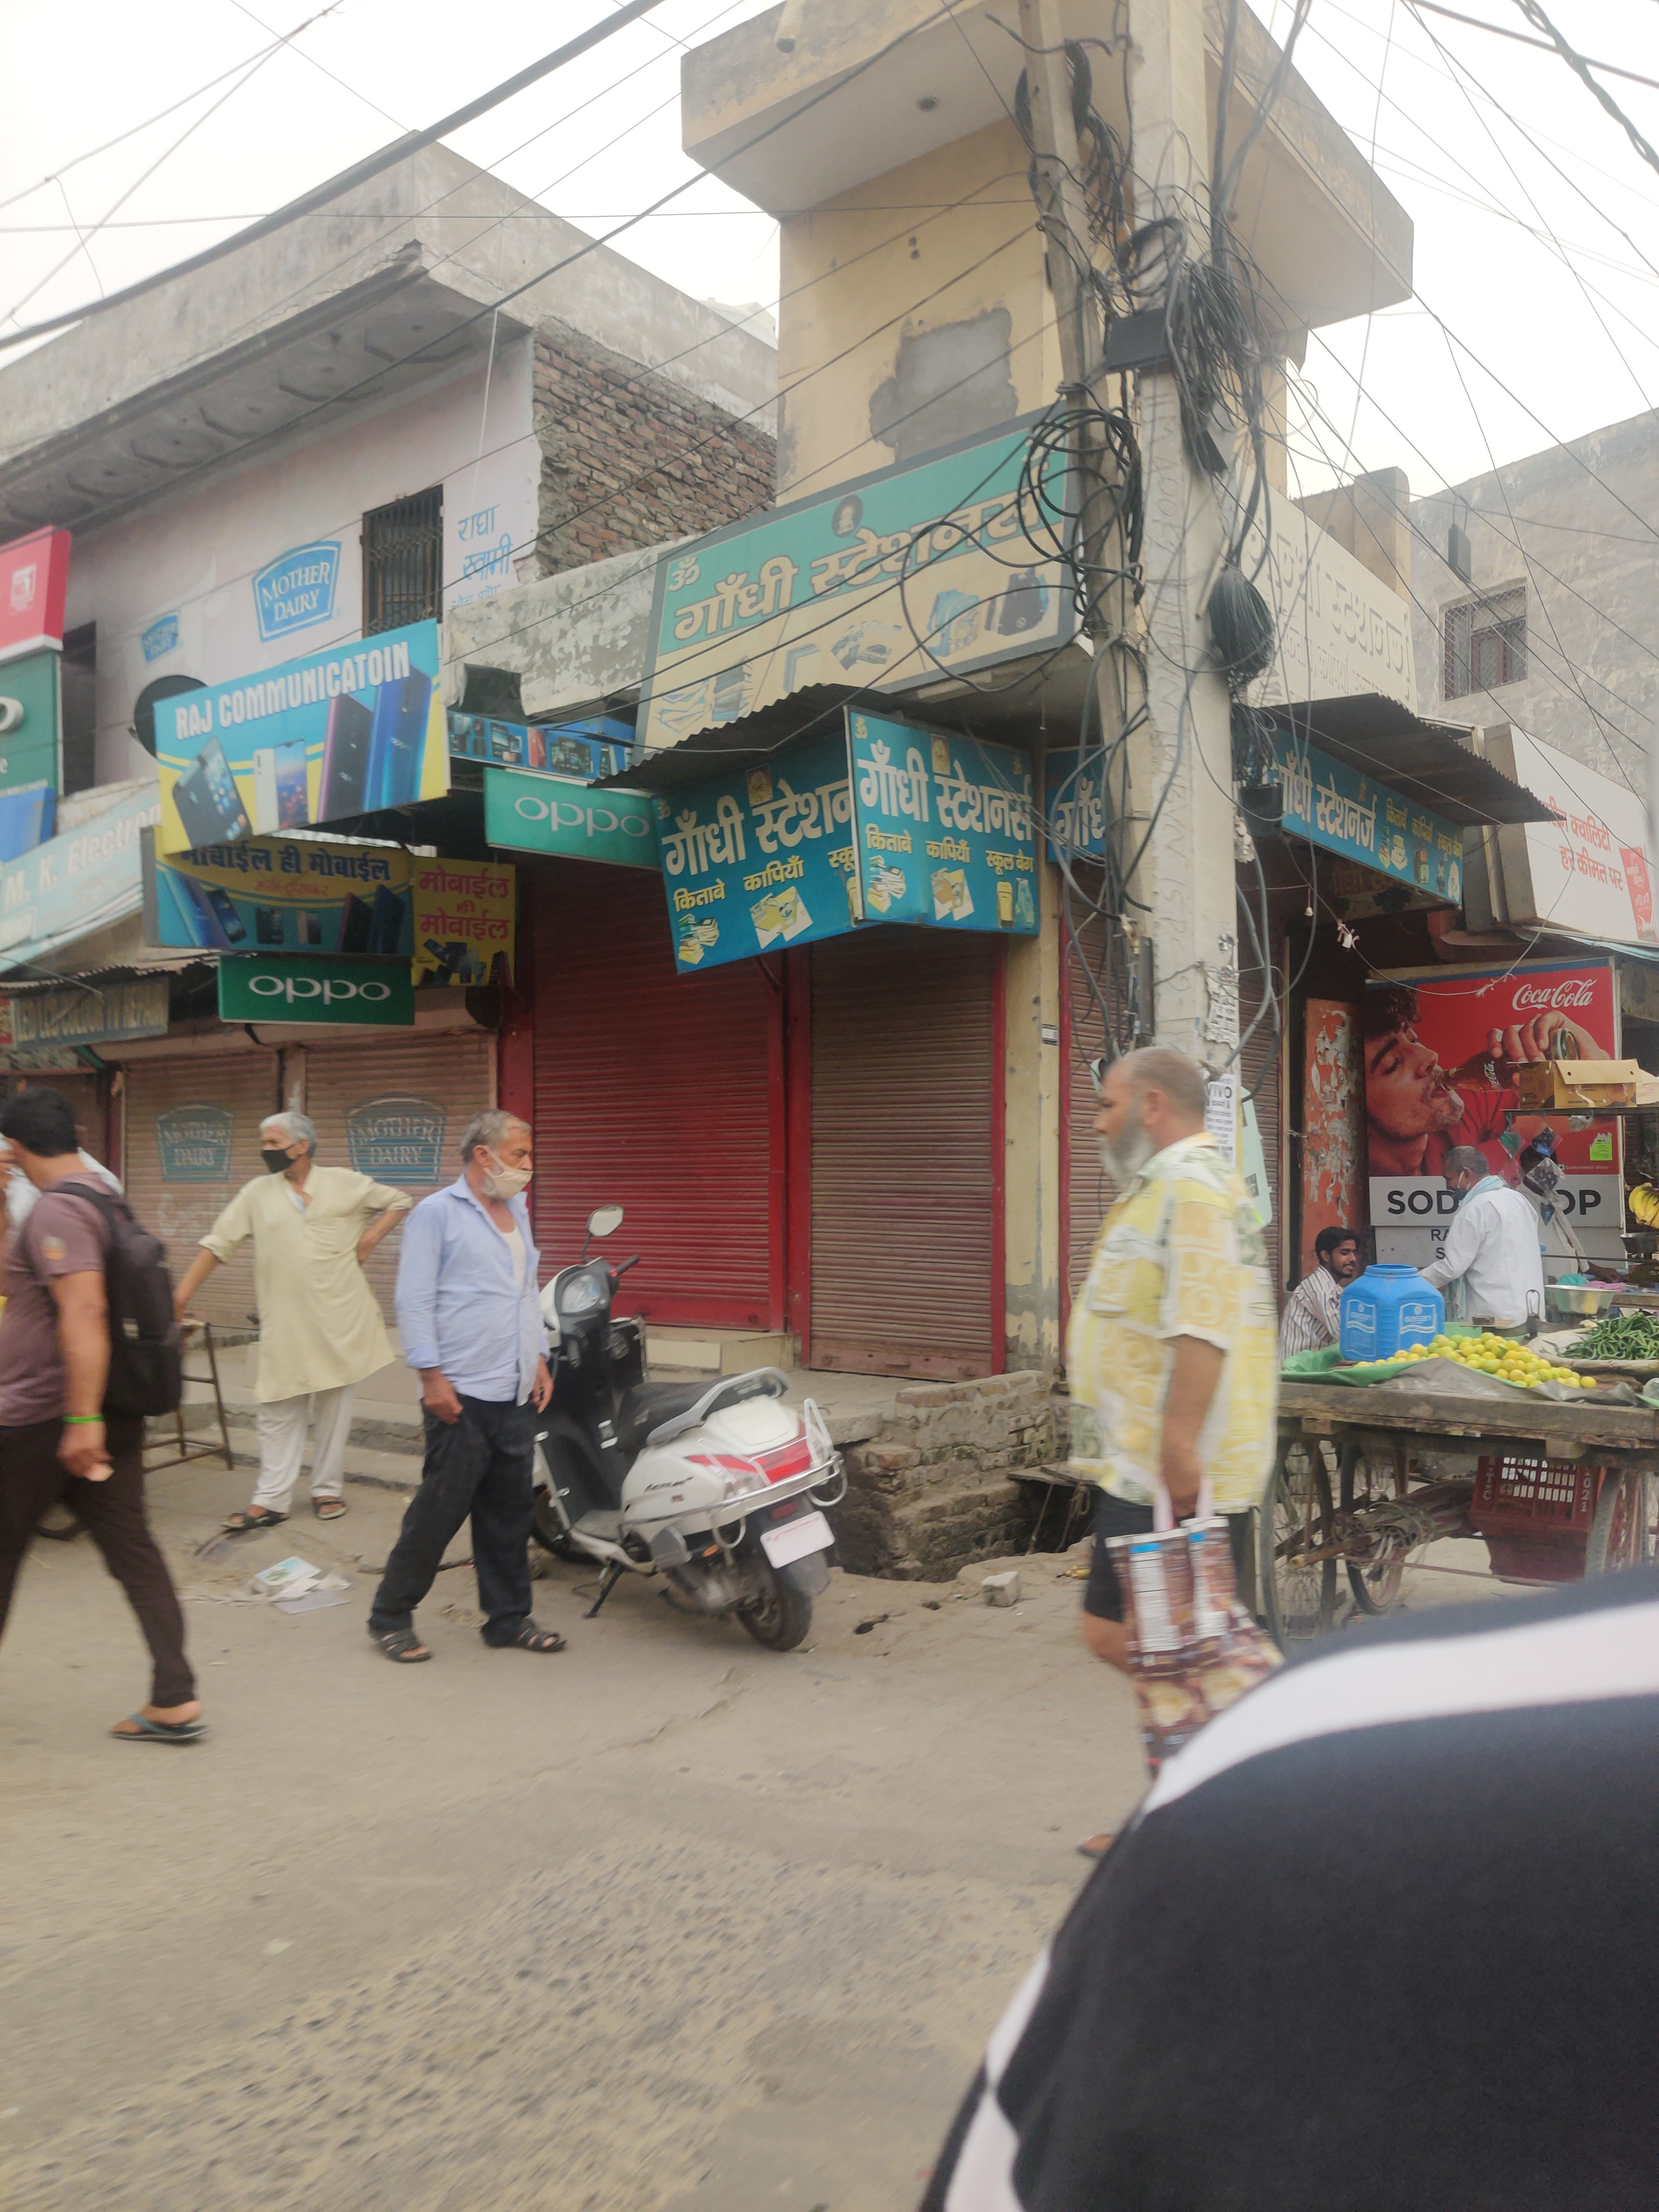text: (641, 716, 1040, 979), (652, 486, 1079, 711), (1354, 956, 1622, 1270), (141, 826, 525, 1022), (136, 632, 458, 827), (232, 502, 540, 643), (1256, 711, 1469, 909), (483, 758, 669, 867), (335, 1092, 453, 1186), (155, 1097, 240, 1181)
